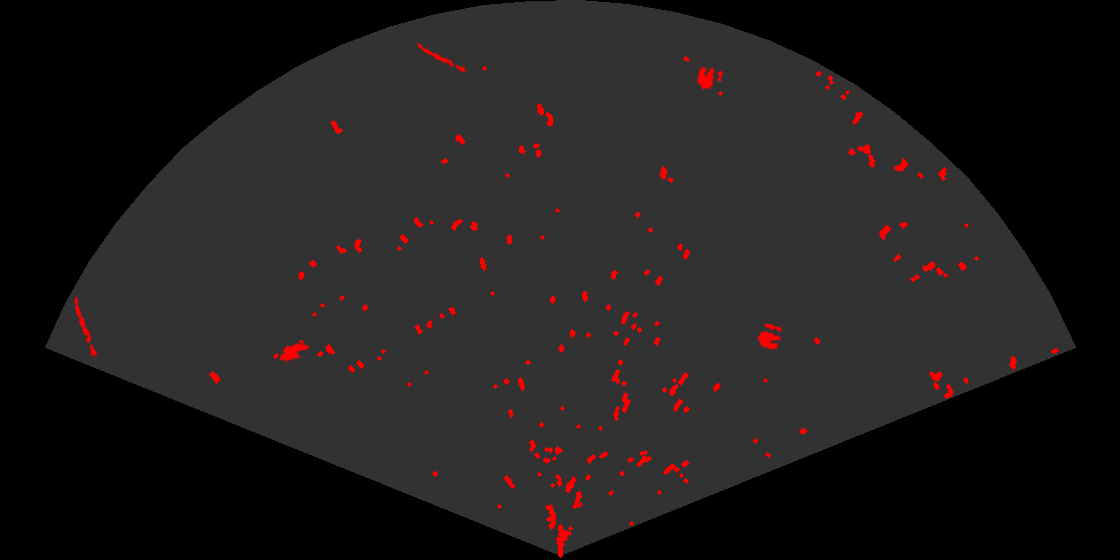AUV: (278, 341, 312, 363)
ball: (756, 322, 784, 351), (696, 65, 724, 91)
chain: (409, 39, 468, 75), (72, 294, 99, 360)
